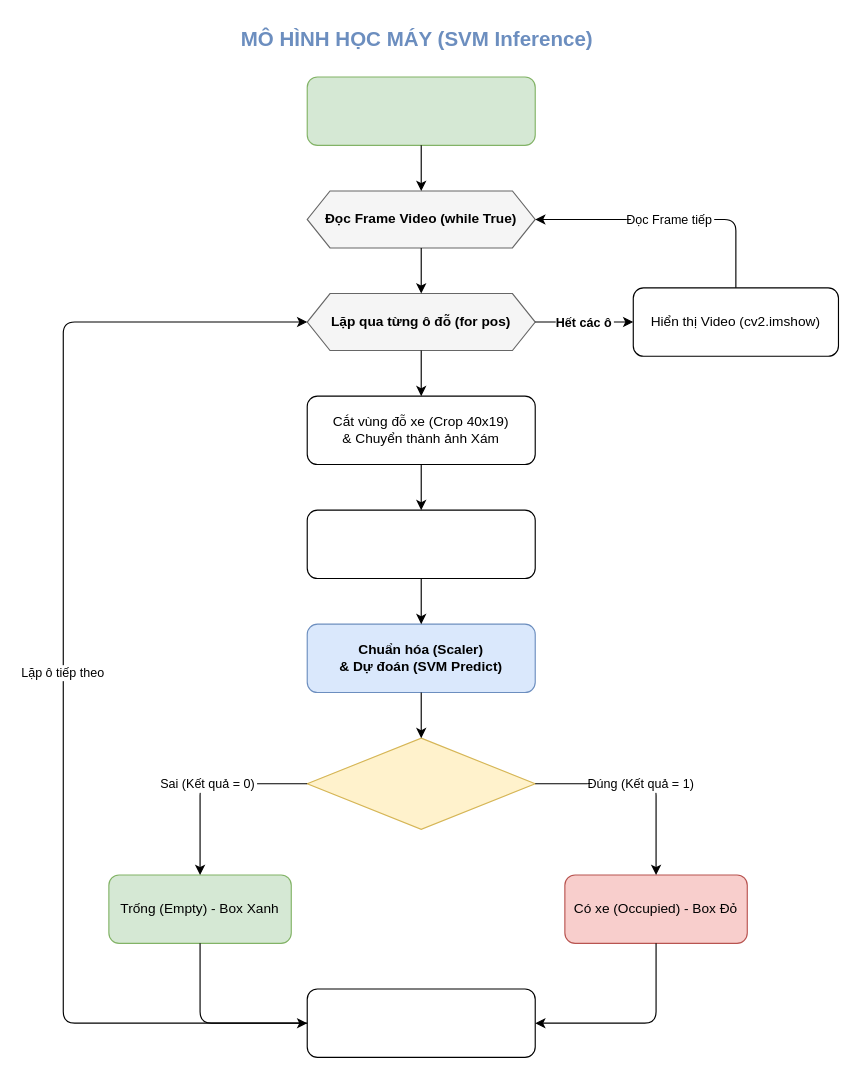
The diagram is 858 pixels wide and 1077 high, and some of its shapes have lost their labels. Here are the shapes that lost their labels. From the top down, the box of each, then its label:
(306, 76, 535, 145): Bắt đầu & Load SVM Model + Scaler
(306, 509, 535, 579): Ép phẳng (Flatten) thành mảng 1x760 pixels
(306, 737, 535, 829): Kết quả == 1 ?
(306, 988, 535, 1057): Vẽ Box lên Frame gốc
